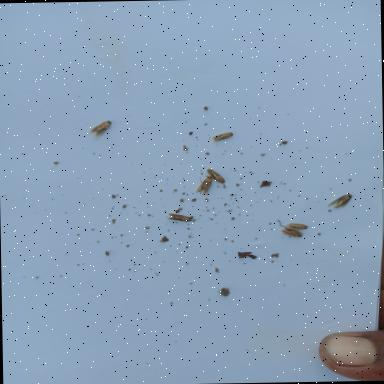pbw: (88, 118, 112, 138), (326, 194, 354, 208), (195, 176, 214, 196), (167, 210, 194, 224), (278, 225, 304, 238), (207, 168, 226, 184), (212, 132, 234, 142), (286, 222, 310, 230)
